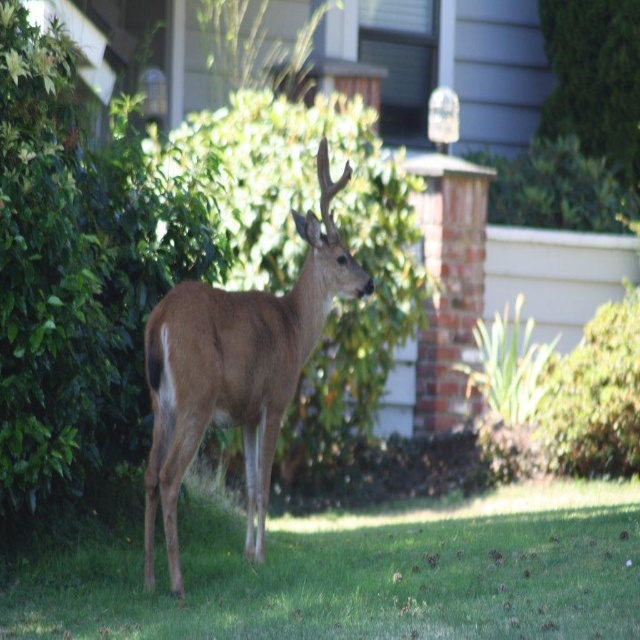Deer: (144, 133, 374, 601)
